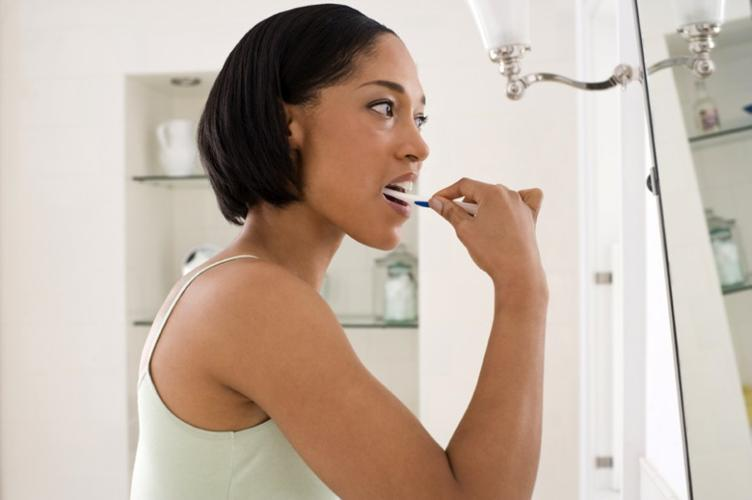person: (124, 6, 548, 500)
